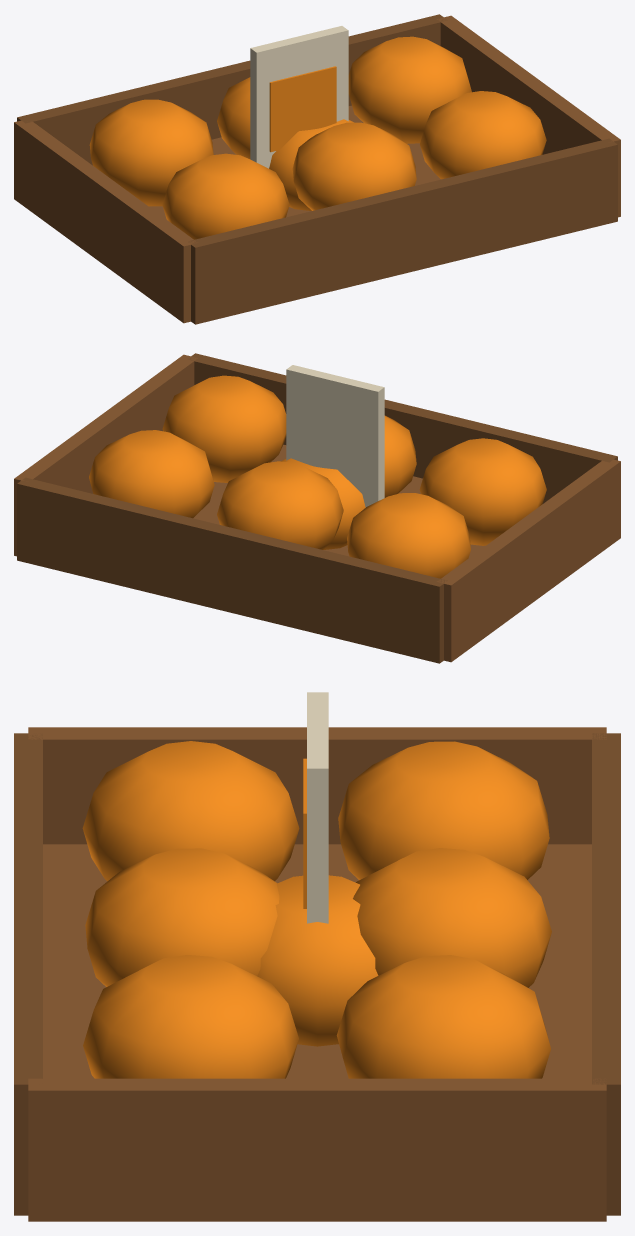
The model's file is Fruit_Tangerine.fbx.
The picture shows the model from 3 angles, top to bottom: view 1: azimuth 30°, elevation 25°; view 2: azimuth 150°, elevation 25°; view 3: azimuth 270°, elevation 25°; orthographic projection. The views are drawn at different scales.
Parts seen in each view (by area): view 1: Fruit_Tangerine__Stack, Fruit_Tangerine__Seed, Fruit_Tangerine; view 2: Fruit_Tangerine__Stack, Fruit_Tangerine__Seed, Fruit_Tangerine; view 3: Fruit_Tangerine__Stack, Fruit_Tangerine, Fruit_Tangerine__Seed.
Part boxes in pixels (box(x1,y1,x2,y2)): Fruit_Tangerine__Stack: box(14, 14, 620, 324); Fruit_Tangerine__Seed: box(250, 26, 348, 168); Fruit_Tangerine: box(269, 119, 353, 210); Fruit_Tangerine__Stack: box(14, 353, 620, 663); Fruit_Tangerine__Seed: box(286, 365, 384, 507); Fruit_Tangerine: box(281, 458, 365, 549); Fruit_Tangerine__Stack: box(14, 727, 620, 1221); Fruit_Tangerine: box(257, 875, 378, 1046); Fruit_Tangerine__Seed: box(303, 692, 328, 923).
Size of the model in its own units: 0.238 by 0.09 by 0.168.
